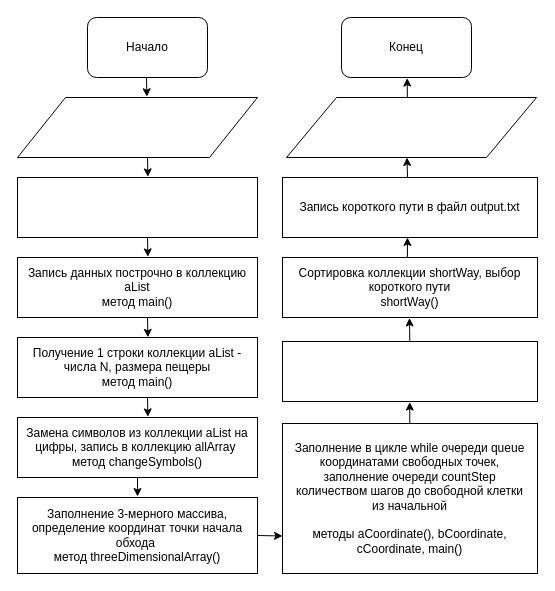
Image size: 555x591. Some labels were removed from this diagram. Each missing label, with the centre of its shape:
1 натуральное число в файле output.txt: the point at 411,127
Данные из файла input.txt: the point at 137,127
Добавление всех путей выхода в коллекцию shortWay метод main(): the point at 410,371
Получение данных из файла input.txt метод main(): the point at 137,207
